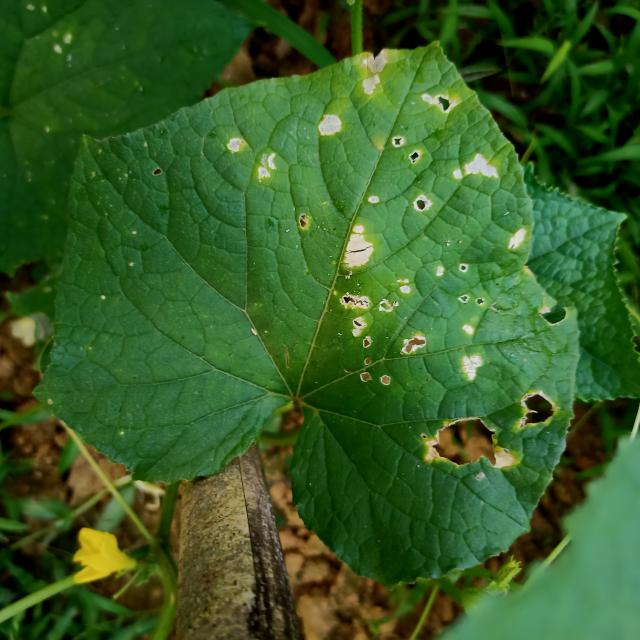disease_cucumber: (334, 290, 425, 386), (416, 414, 519, 472), (222, 133, 278, 183), (338, 217, 376, 274), (512, 386, 560, 427), (448, 150, 502, 183), (363, 48, 387, 95), (388, 132, 422, 164), (459, 351, 487, 385), (422, 88, 456, 116), (502, 223, 528, 251), (318, 112, 342, 140), (408, 196, 431, 213)
